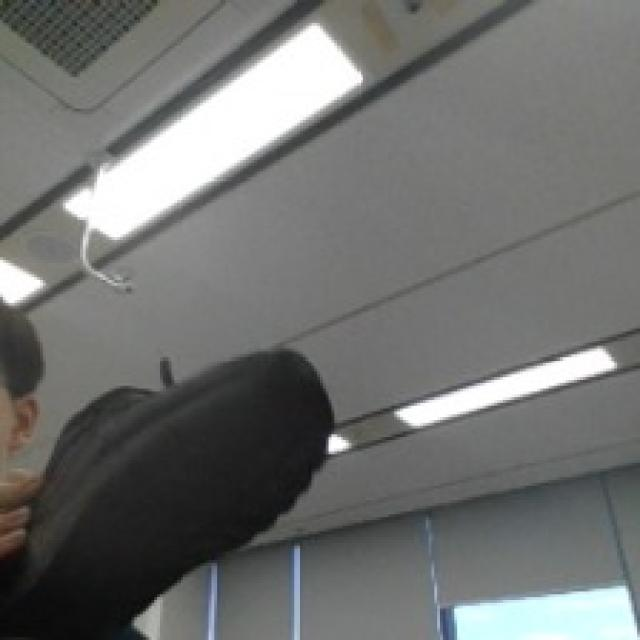shoe: (0, 345, 337, 640)
